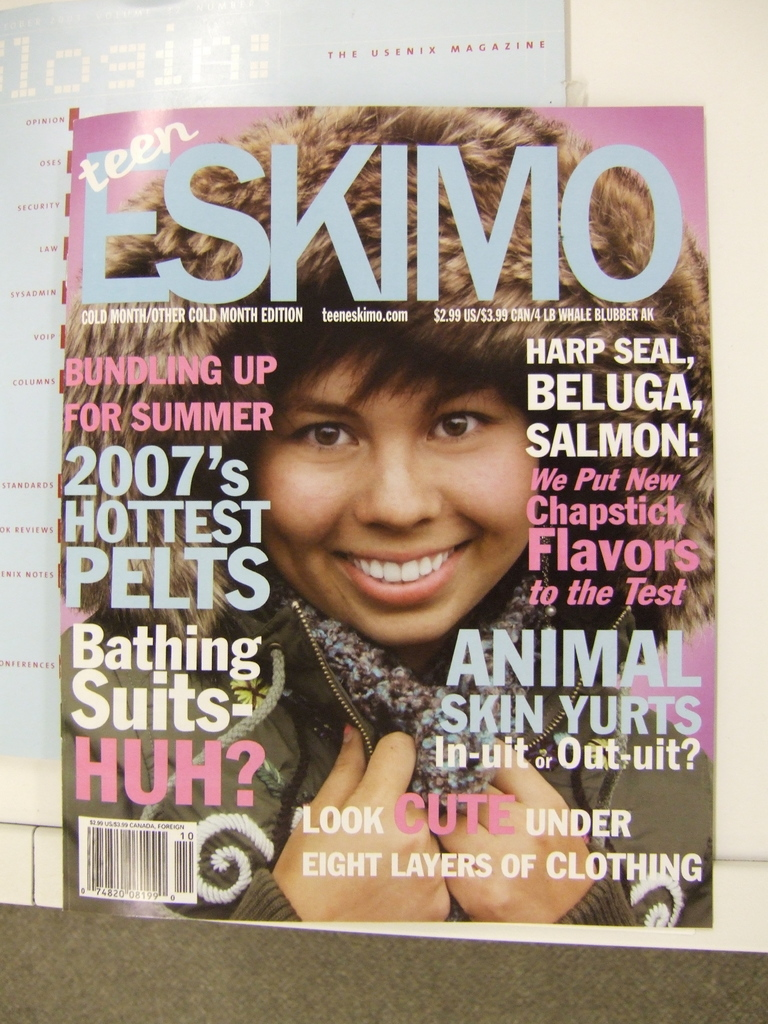face: (266, 267, 531, 649)
